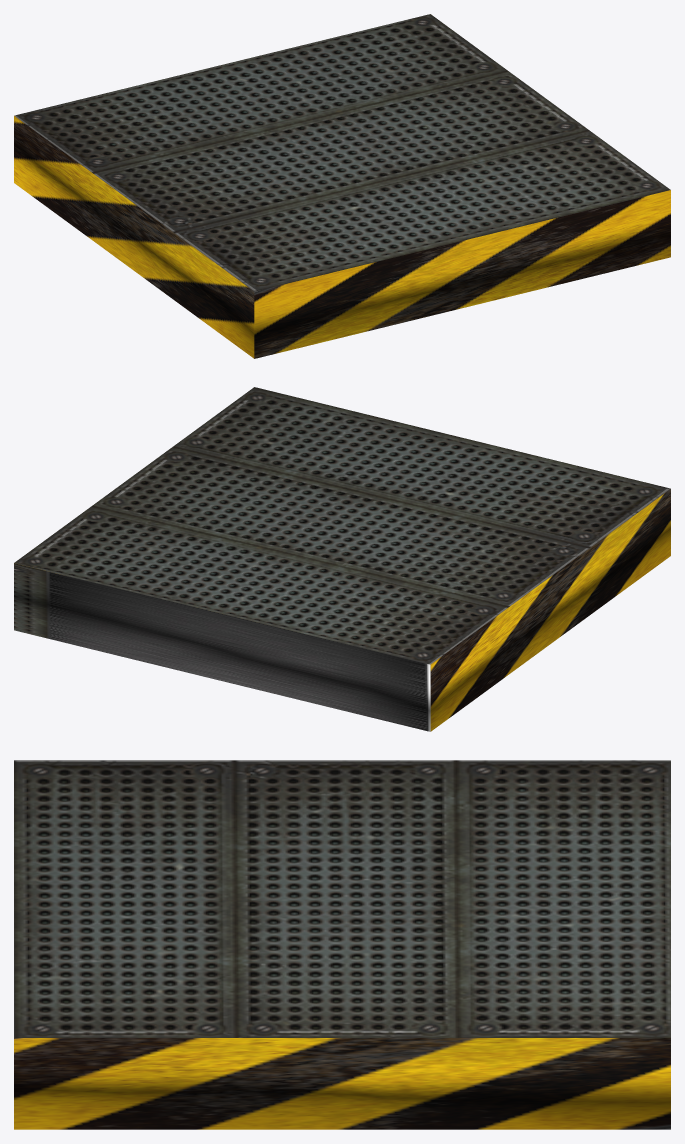
Rendered from ascensor.fbx.
The picture shows the model from 3 angles, top to bottom: view 1: azimuth 30°, elevation 25°; view 2: azimuth 150°, elevation 25°; view 3: azimuth 270°, elevation 25°; orthographic projection. The views are drawn at different scales.
Parts seen in each view (by area): view 1: Cube_001; view 2: Cube_001; view 3: Cube_001.
Boxes of the visible parts, <box> form: Cube_001: <box>14,14,670,358</box>; Cube_001: <box>14,387,670,731</box>; Cube_001: <box>14,760,670,1129</box>.
Size of the model in its own units: 4.39 by 1.05 by 4.39.
1 material, 1 textured.
